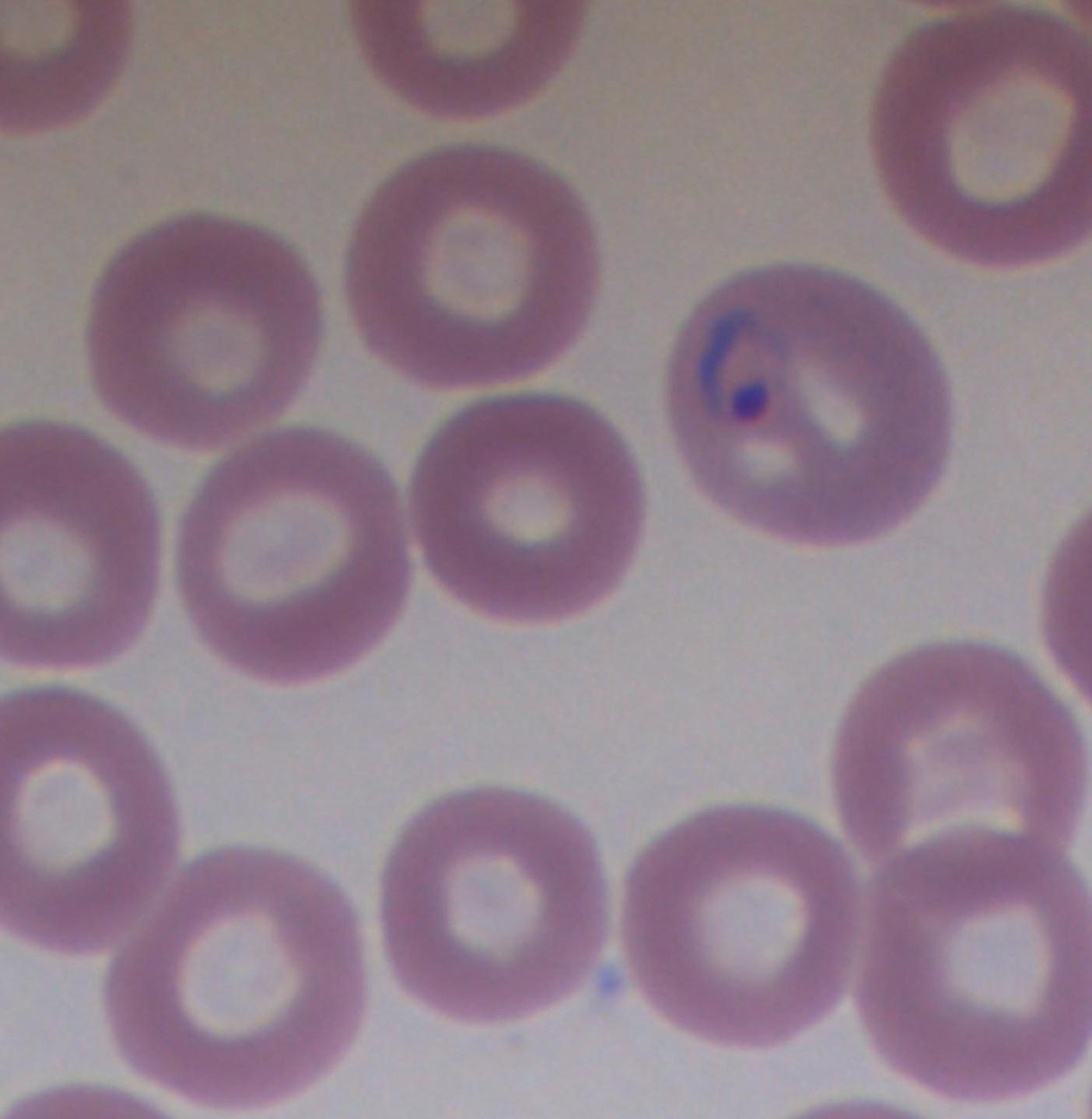Infected: (661, 263, 948, 547)
Uninfected: (342, 141, 604, 390), (107, 862, 359, 1107), (180, 425, 411, 680), (862, 831, 1084, 1083), (412, 390, 652, 622), (627, 806, 859, 1045), (873, 7, 1086, 264), (89, 213, 321, 446), (835, 645, 1078, 863), (384, 789, 607, 1019), (2, 690, 177, 942), (4, 427, 163, 671), (355, 2, 583, 116)
